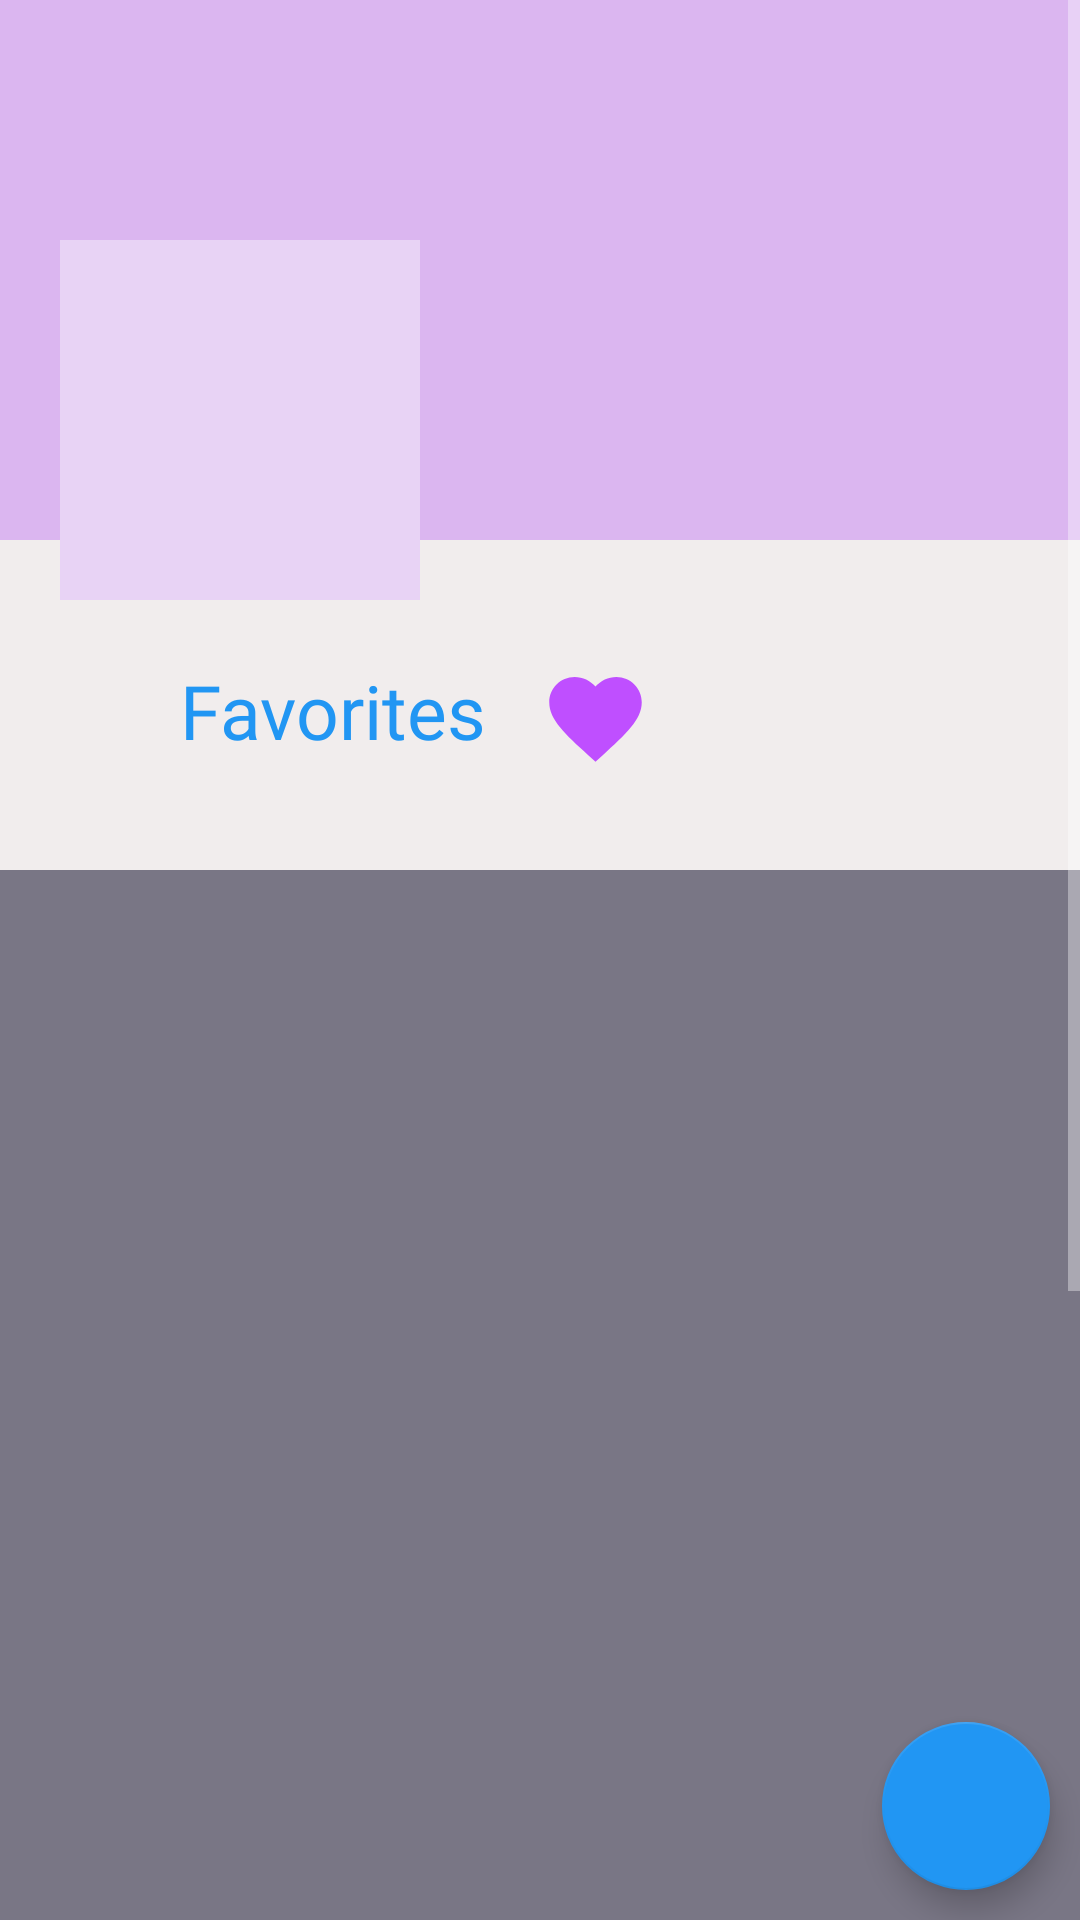

Screen size 1080px x 1920px. Icon name, then its box in pixels as bbox(x1, y1, x2, y2):
heart: bbox(549, 677, 642, 762)
